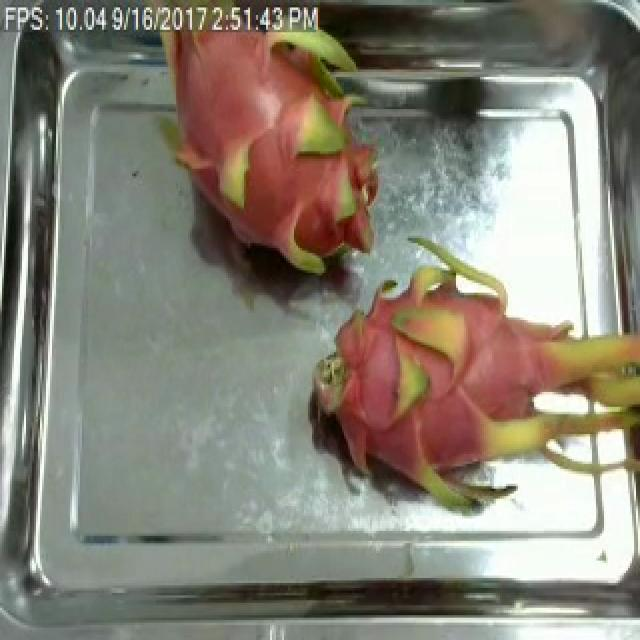Fruit: (224, 124, 396, 283)
